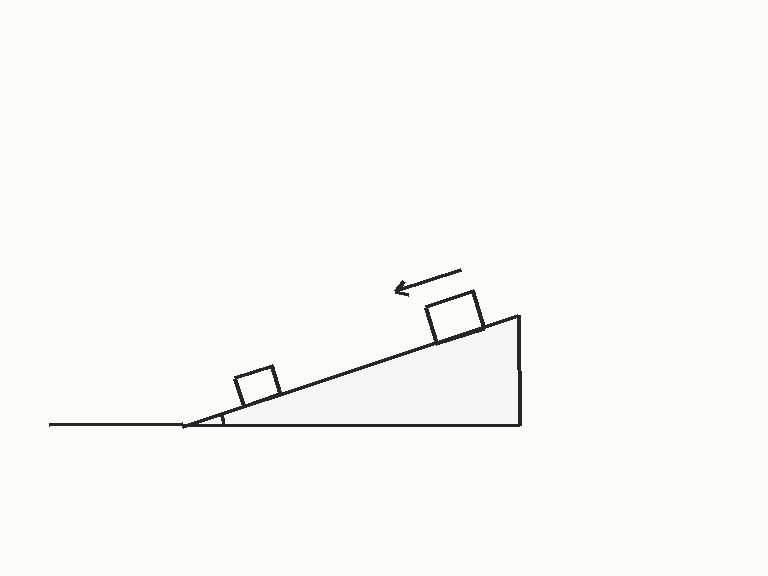block: (422, 290, 486, 345), (232, 364, 283, 408)
ramp: (181, 314, 521, 427)
